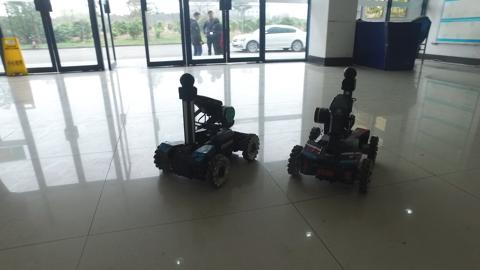chariot: (286, 58, 392, 209), (151, 66, 268, 184)
